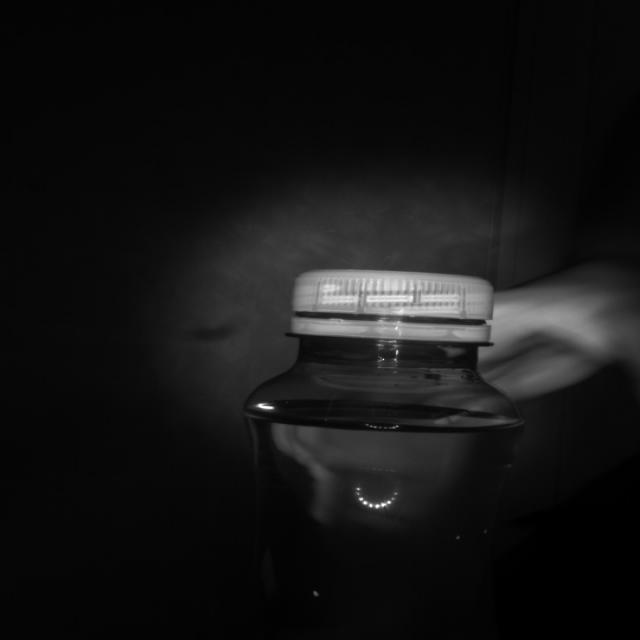Not Good: (289, 266, 495, 346)
